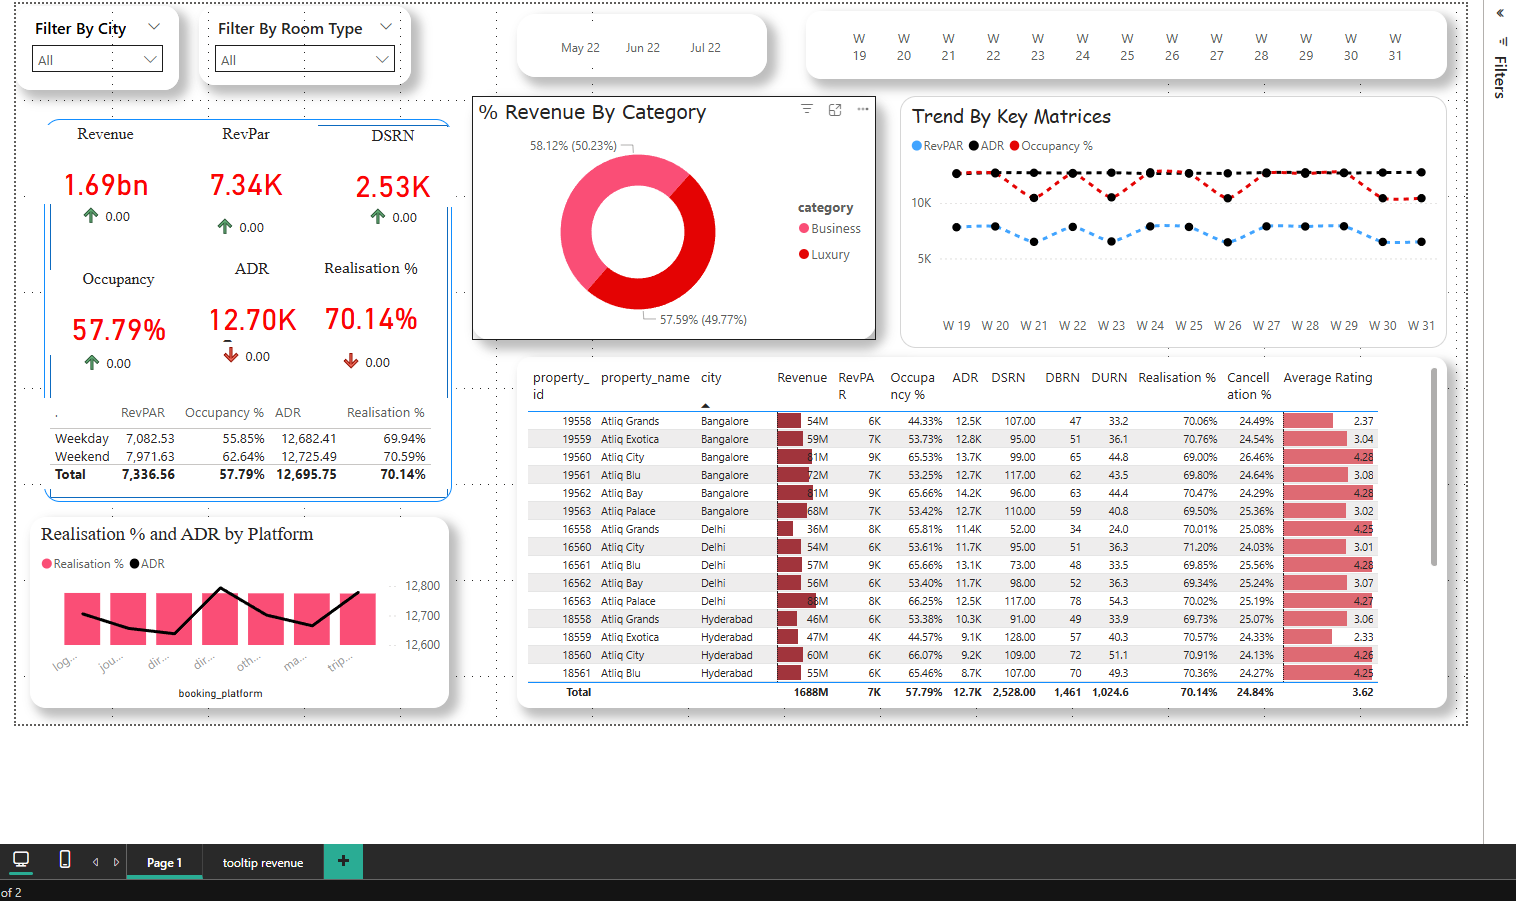

What the dashboard file says about the page in this screenshot:
{"tool":"powerbi","page":{"name":"Page 1","canvas":[1450,720],"ordinal":0},"visuals":[{"type":"tableEx","fields":{"Values":["key_measures.Revenue WoW change %"]},"box":[315.2,315.1,80,65.9],"z":0,"group":"g1"},{"type":"shape","box":[663.5,0,447.1,408.2],"z":1000},{"type":"tableEx","fields":{"Values":["key_measures.Revenue WoW change %"]},"box":[195.3,309.4,80,71.8],"z":2000,"group":"g1"},{"type":"tableEx","fields":{"Values":["key_measures.Revenue WoW change %"]},"box":[56.4,316.5,80,71.8],"z":3000,"group":"g1"},{"type":"tableEx","fields":{"Values":["key_measures.Revenue WoW change %"]},"box":[342.8,170.2,80.2,71.6],"z":4000,"group":"g1"},{"type":"tableEx","fields":{"Values":["key_measures.Revenue WoW change %"]},"box":[55.9,169.4,80.3,71.8],"z":5000,"group":"g1"},{"type":"tableEx","fields":{"Values":["dim_hotels.property_id","dim_hotels.property_name","dim_hotels.city","key_measures.Revenue","key_measures.RevPAR","key_measures.Occupancy %","key_measures.ADR","key_measures.DSRN","key_measures.DBRN","key_measures.DURN","key_measures.Realisation %","key_measures.Cancellation %"]},"box":[501.2,352.9,929.4,350.6],"z":6000},{"type":"slicer","fields":{"Values":["dim_hotels.city"]},"box":[0,1.8,162.7,84.5],"z":7000},{"type":"slicer","fields":{"Values":["dim_rooms.room_class"]},"box":[182.7,2.5,212.3,79],"z":8000},{"type":"tableEx","fields":{"Values":["key_measures.Revenue WoW change %"]},"box":[189.3,180,80,60],"z":9000,"group":"g1"},{"type":"slicer","fields":{"Values":["dim_date.mmm yy"]},"box":[501.2,9.9,249.4,63],"z":10000},{"type":"slicer","fields":{"Values":["dim_date.week no"]},"box":[790.1,7.4,640.7,67.9],"z":11000},{"type":"cardVisual","title":"Revenue","fields":{"Data":["key_measures.Revenue"]},"box":[13.5,121.2,151.3,79.1],"z":12000,"group":"g1"},{"type":"donutChart","title":"% Revenue By Category","fields":{"Category":["dim_hotels.category"],"Y":["key_measures.Occupancy %"]},"box":[456.5,91.8,403.5,244.7],"z":13000},{"type":"cardVisual","title":"DSRN","fields":{"Data":["key_measures.DSRN"]},"box":[317.8,123.3,117.8,80.2],"z":14000,"group":"g1"},{"type":"cardVisual","title":"RevPar","fields":{"Data":["key_measures.RevPAR"]},"box":[157.4,121.2,143.9,91.8],"z":15000,"group":"g1"},{"type":"cardVisual","title":"Occupancy","fields":{"Data":["key_measures.Occupancy %"]},"box":[33.8,266.1,136.5,84.7],"z":16000,"group":"g1"},{"type":"cardVisual","title":"ADR","fields":{"Data":["key_measures.ADR"]},"box":[163.5,256.5,143.5,80],"z":17000,"group":"g1"},{"type":"lineChart","title":"Trend By Key Matrices","fields":{"Category":["dim_date.mmm yy.Variation.Date Hierarchy.Month","dim_date.week no"],"Y":["key_measures.RevPAR","key_measures.ADR"],"Y2":["key_measures.Occupancy %"]},"box":[883.5,91.8,547.1,251.8],"z":18000},{"type":"shape","box":[28.2,115.3,408.2,382.4],"z":18500},{"type":"lineClusteredColumnComboChart","title":"Realisation % and ADR by Platform","fields":{"Category":["fact_bookings.booking_platform"],"Y":["key_measures.Realisation %"],"Y2":["key_measures.ADR"]},"box":[14.1,512.9,418.8,190.6],"z":19000},{"type":"tableEx","fields":{"Values":["dim_date.day type","key_measures.RevPAR","key_measures.Occupancy %","key_measures.ADR","key_measures.Realisation %"]},"box":[28.4,393.7,404.6,91],"z":20000},{"type":"cardVisual","title":"Realisation %","fields":{"Data":["key_measures.Realisation %"]},"box":[289.4,256.5,130.6,89.4],"z":22000,"group":"g1"},{"type":"group","id":"g1","title":"Group 1","box":[13.5,121.2,422,267],"z":22001}]}

Visuals, with their boxes on the page's 1450x720 design canvas (x1, y1, x2, y2). These are canvas units, not pixel positions in the 1516x901 screenshot, which may show the page scaled, cropped or inside an application window:
tableEx - key_measures.Revenue WoW change %: 315,315,395,381
shape: 664,0,1111,408
tableEx - key_measures.Revenue WoW change %: 195,309,275,381
tableEx - key_measures.Revenue WoW change %: 56,316,136,388
tableEx - key_measures.Revenue WoW change %: 343,170,423,242
tableEx - key_measures.Revenue WoW change %: 56,169,136,241
tableEx - dim_hotels.property_id x dim_hotels.property_name: 501,353,1431,704
slicer - dim_hotels.city: 0,2,163,86
slicer - dim_rooms.room_class: 183,2,395,82
tableEx - key_measures.Revenue WoW change %: 189,180,269,240
slicer - dim_date.mmm yy: 501,10,751,73
slicer - dim_date.week no: 790,7,1431,75
"Revenue" cardVisual: 14,121,165,200
"% Revenue By Category" donutChart: 456,92,860,336
"DSRN" cardVisual: 318,123,436,204
"RevPar" cardVisual: 157,121,301,213
"Occupancy" cardVisual: 34,266,170,351
"ADR" cardVisual: 164,256,307,336
"Trend By Key Matrices" lineChart: 884,92,1431,344
shape: 28,115,436,498
"Realisation % and ADR by Platform" lineClusteredColumnComboChart: 14,513,433,704
tableEx - dim_date.day type x key_measures.RevPAR: 28,394,433,485
"Realisation %" cardVisual: 289,256,420,346
"Group 1" group: 14,121,436,388
